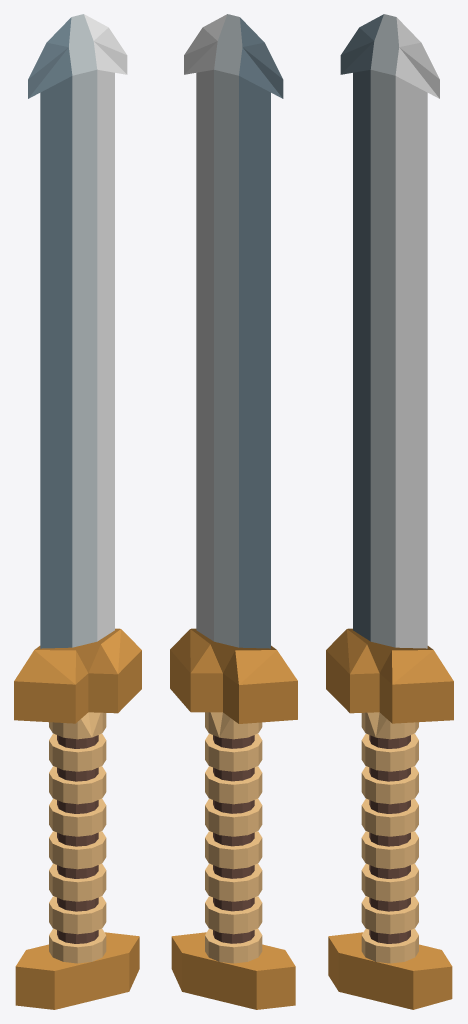
Rendered from a-slightly-fancy-sword-by-skie-radscale-cI9Vt3az-hU.glb.
The picture shows the model from 3 angles, left to right: view 1: azimuth 30°, elevation 25°; view 2: azimuth 150°, elevation 25°; view 3: azimuth 330°, elevation 25°; orthographic projection.
Visible parts, largest first — view 1: Node; view 2: Node; view 3: Node.
Part boxes in pixels (x1,y1,x2,y2): Node: (14, 14, 141, 1009); Node: (170, 14, 297, 1009); Node: (326, 14, 453, 1009).
Size of the model in its own units: 0.206 by 1.5 by 0.1061.
